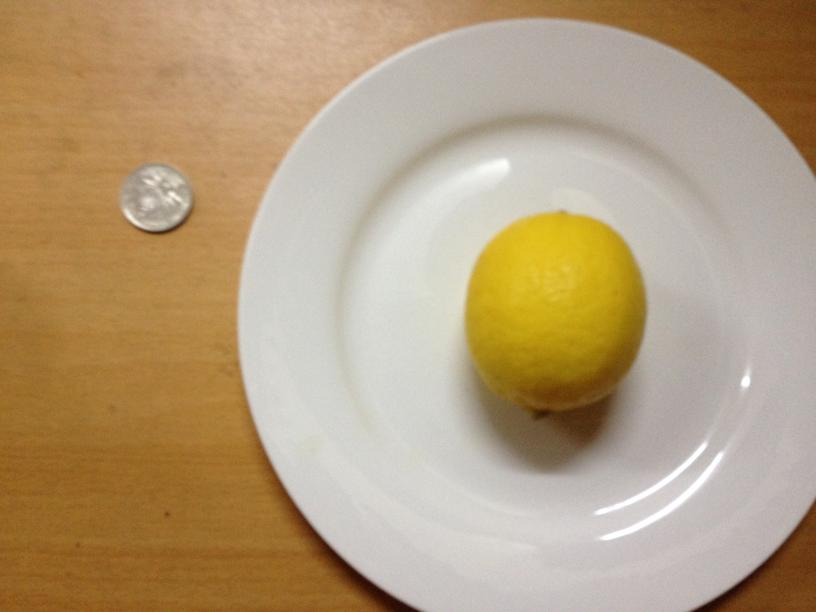coin: (120, 163, 192, 232)
lemon: (466, 204, 648, 414)
